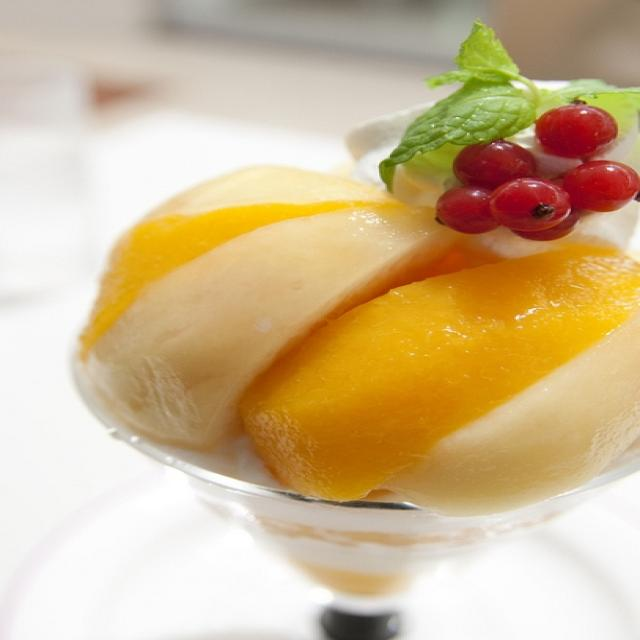蛋糕甜品: (42, 26, 630, 621)
